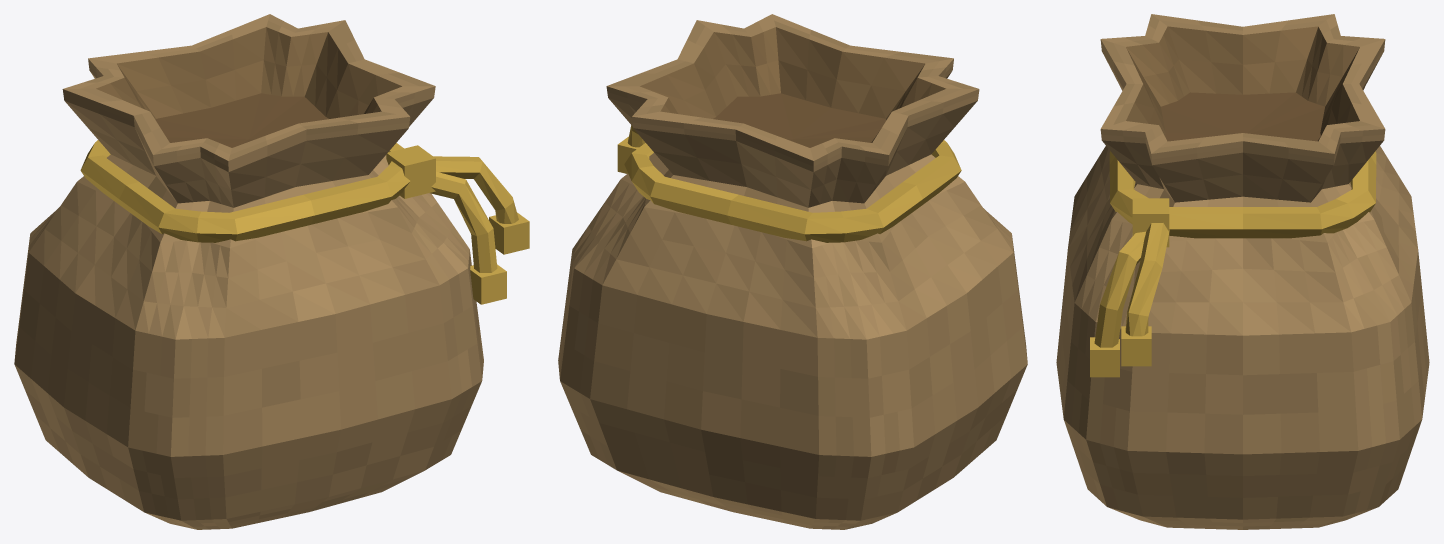
The model's file is loot_bag.glb.
3 renders of one model, left to right at view 1: azimuth 30°, elevation 25°; view 2: azimuth 150°, elevation 25°; view 3: azimuth 270°, elevation 25°, orthographic.
Parts seen in each view (by area): view 1: Loot_Bag; view 2: Loot_Bag; view 3: Loot_Bag.
Part boxes in pixels (x1,y1,x2,y2): Loot_Bag: (14,14,529,529); Loot_Bag: (558,14,1027,529); Loot_Bag: (1056,14,1429,529).
Bounding box in the file's own units: 0.3615 × 0.324 × 0.2838.
